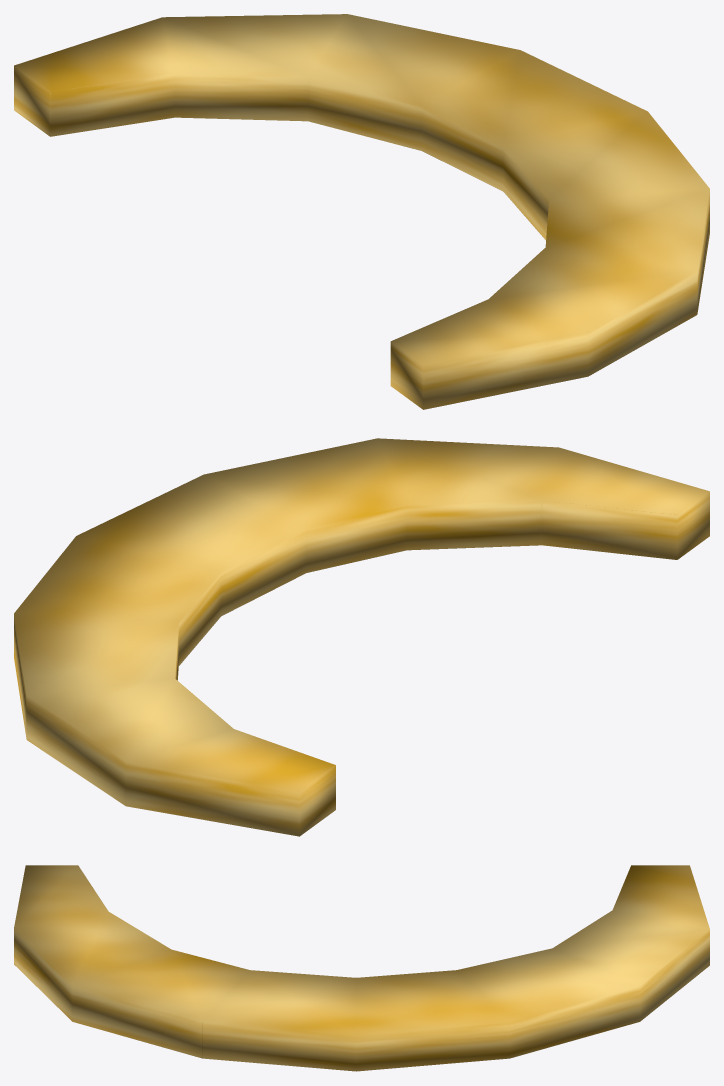
Rendered from gyudon_tamanegi.glb.
3 renders of one model, top to bottom at view 1: azimuth 30°, elevation 25°; view 2: azimuth 150°, elevation 25°; view 3: azimuth 270°, elevation 25°, orthographic. The views are drawn at different scales.
Visible parts, largest first — view 1: 円; view 2: 円; view 3: 円.
Boxes of the visible parts, x1,y1,x2,y2 form: 円: (14,14,709,409); 円: (14,438,709,836); 円: (14,865,709,1071).
Size of the model in its own units: 0.46 by 0.046 by 0.7975.
1 material, 1 textured.
